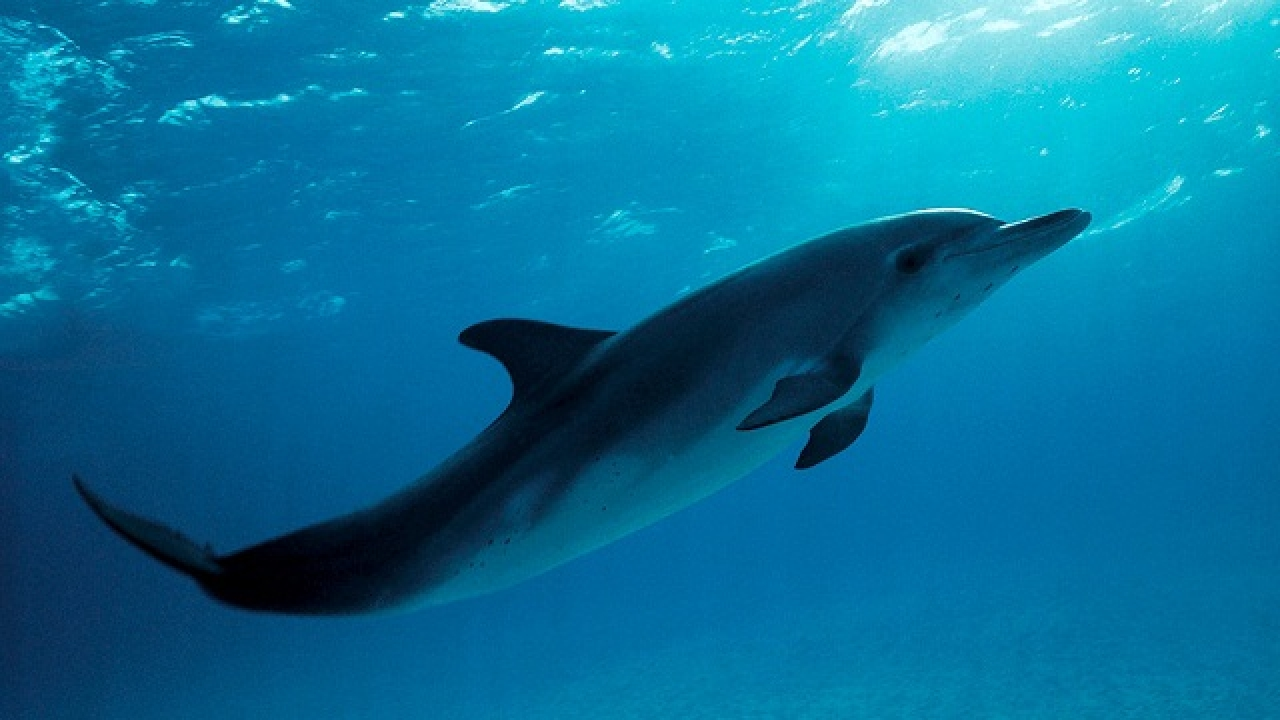dolphin: (52, 186, 1125, 623)
